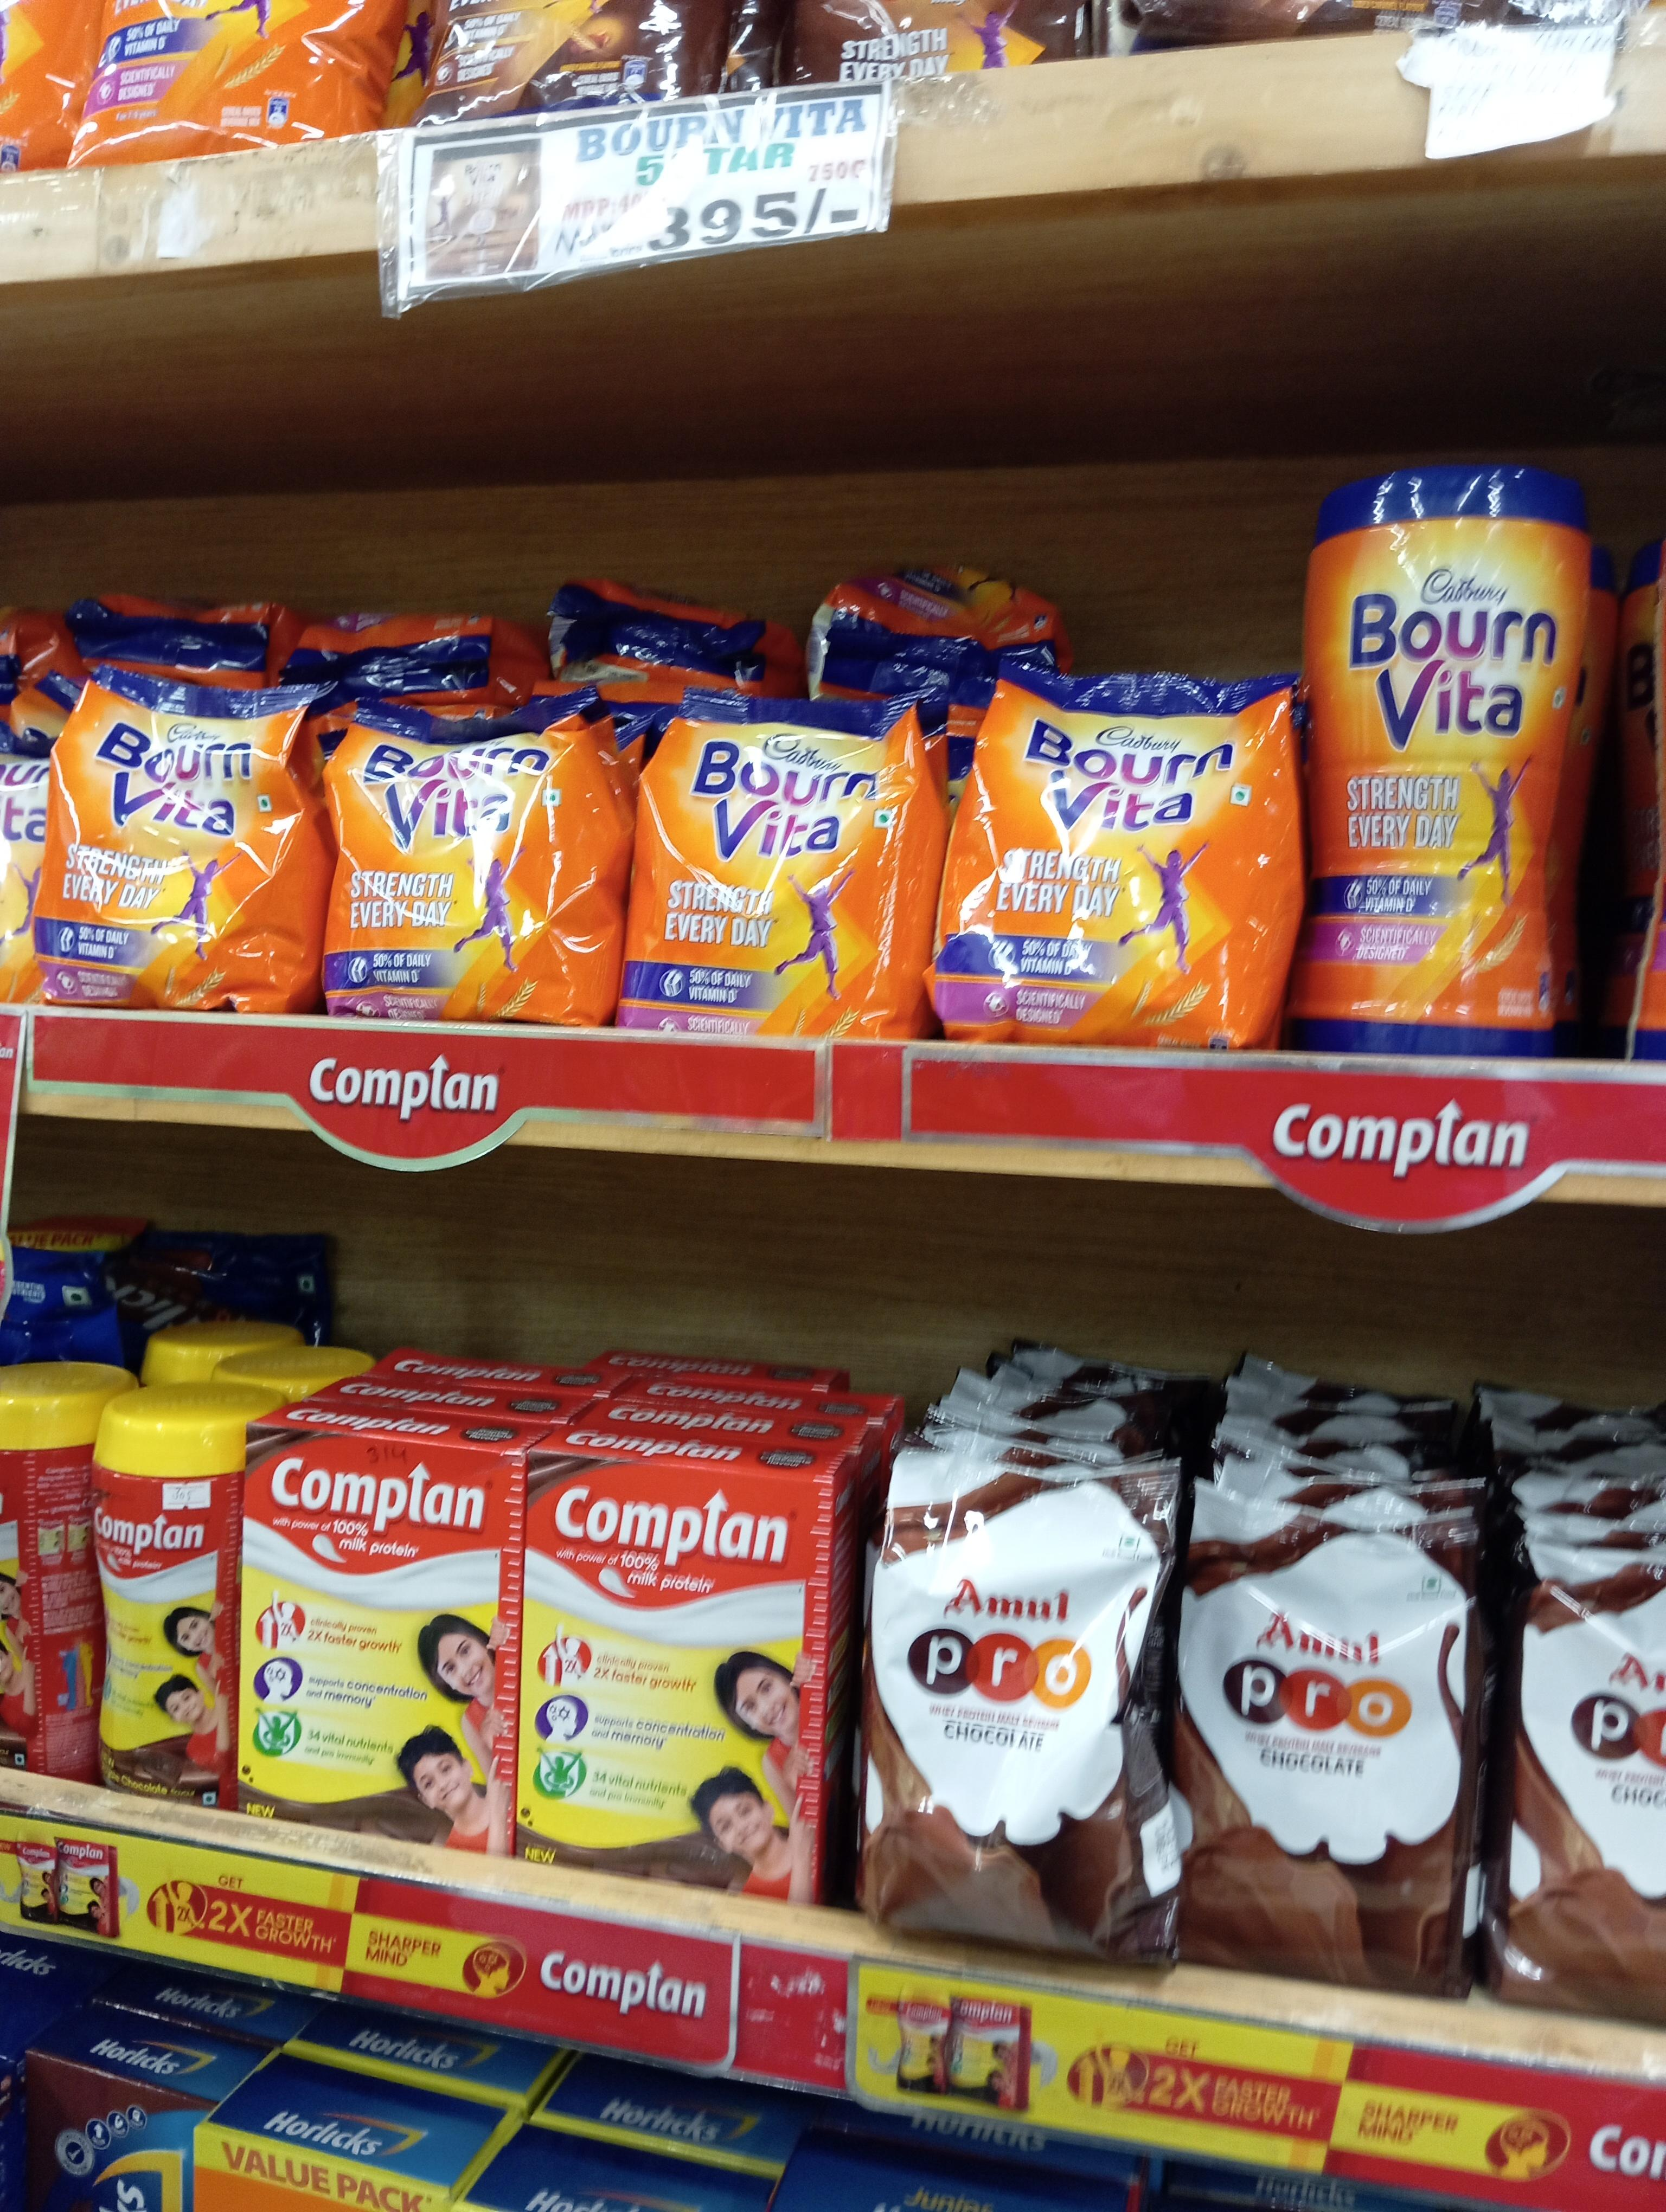BOURN_VITA_1_KG_JAR: (1300, 458, 1566, 1060)
BOURN_VITA_500_G_POUCH: (950, 650, 1278, 1047), (637, 677, 915, 1037), (329, 680, 614, 1019), (52, 657, 313, 1018)
COMPLAN_CHOCOLATE_500_GMS_JAR: (84, 1394, 236, 1810)
COMPLAN_CHOCOLATE_500_GMS_PACK: (527, 1453, 819, 1871), (247, 1425, 516, 1850)
